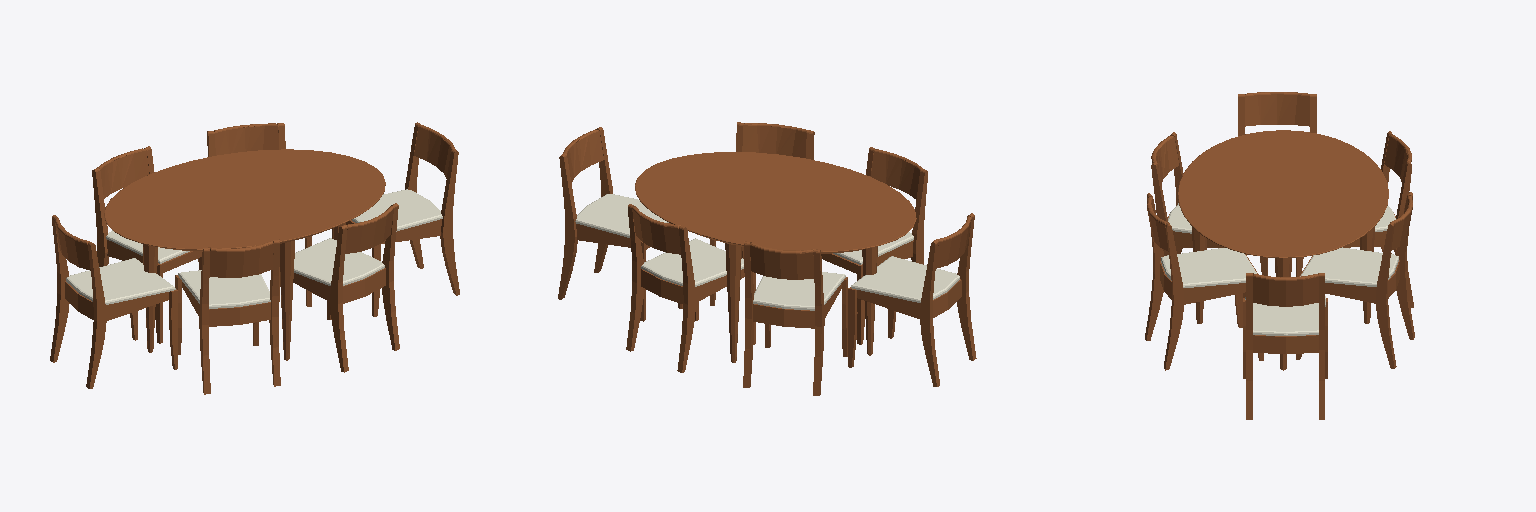
File: DiningSet2.obj
3 views of the same model, side by side, from view 1: azimuth 30°, elevation 25°; view 2: azimuth 150°, elevation 25°; view 3: azimuth 270°, elevation 25° (orthographic).
Bounding box in the file's own units: 88.22 × 31.6 × 53.61.